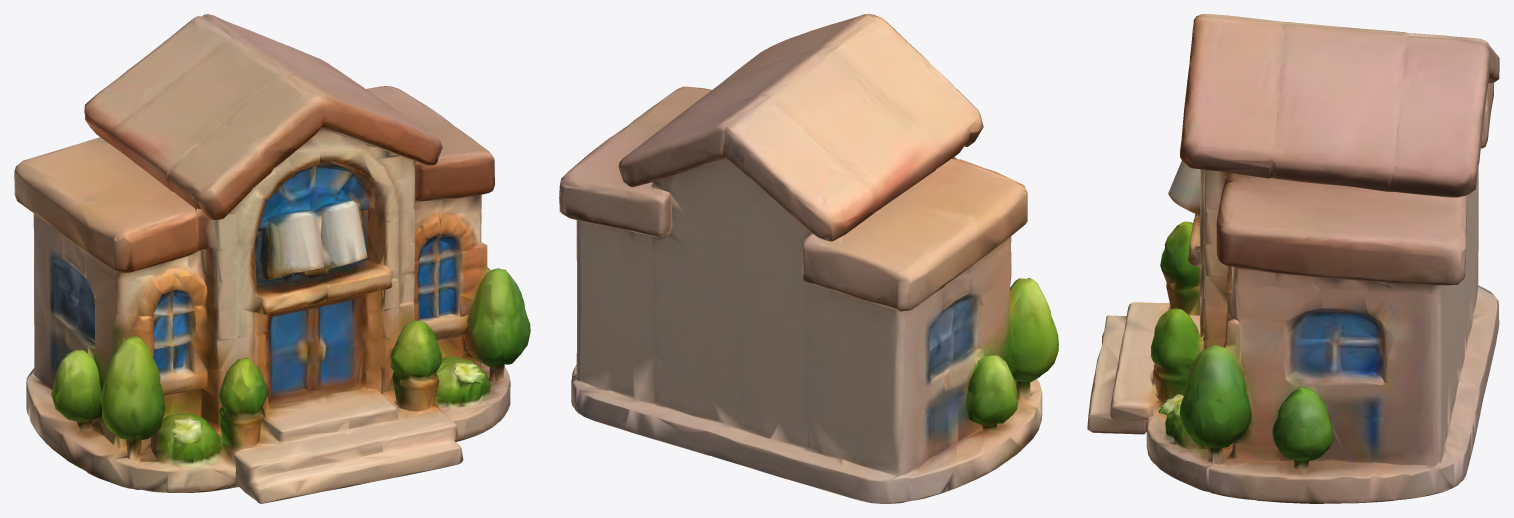
File: pl_library.glb
The picture shows the model from 3 angles, left to right: view 1: azimuth 30°, elevation 25°; view 2: azimuth 150°, elevation 25°; view 3: azimuth 270°, elevation 25°; orthographic projection. The views are drawn at different scales.
Size of the model in its own units: 1 by 0.8047 by 0.7938.
1 material, 1 textured.
